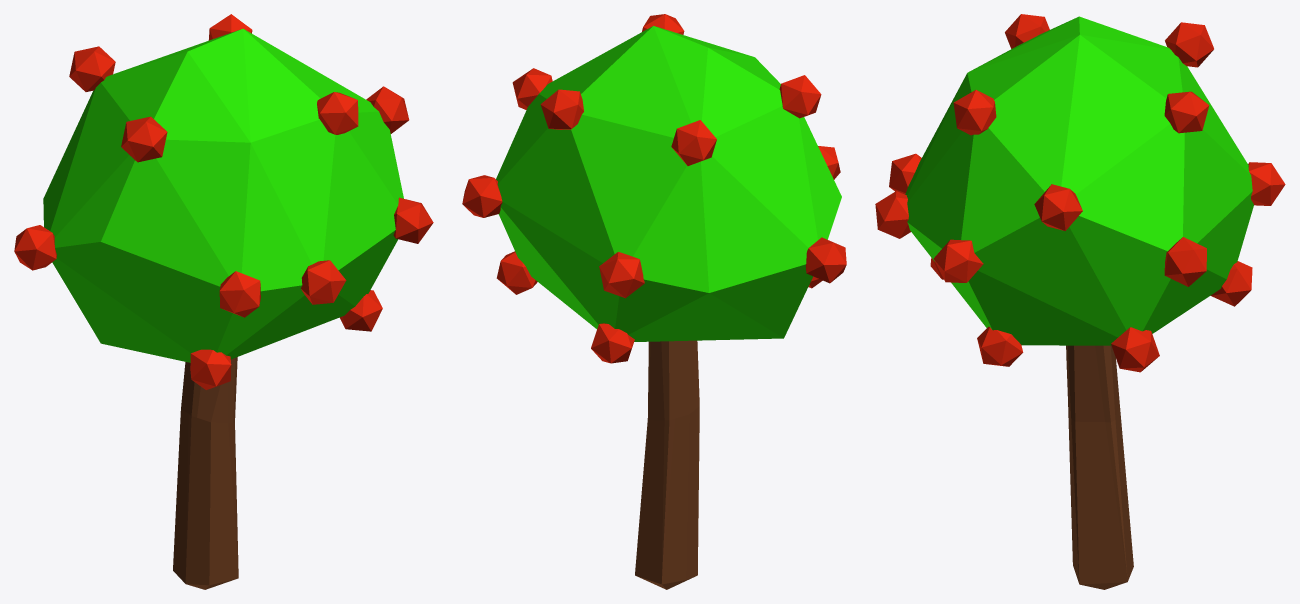
Rendered from smallFruitTree1 1.fbx.
The picture shows the model from 3 angles, left to right: view 1: azimuth 30°, elevation 25°; view 2: azimuth 150°, elevation 25°; view 3: azimuth 270°, elevation 25°; orthographic projection. The views are drawn at different scales.
Parts seen in each view (by area): view 1: smallFruitTree.003, smallFruitTree.002; view 2: smallFruitTree.003, smallFruitTree.002; view 3: smallFruitTree.003, smallFruitTree.002.
Boxes of the visible parts, x1,y1,x2,y2 form: smallFruitTree.003: (43, 28, 403, 589); smallFruitTree.002: (14, 14, 433, 389); smallFruitTree.003: (496, 26, 841, 589); smallFruitTree.002: (462, 14, 846, 363); smallFruitTree.003: (905, 16, 1253, 589); smallFruitTree.002: (875, 14, 1285, 372).
Bounding box in the file's own units: 169 × 248 × 162.
